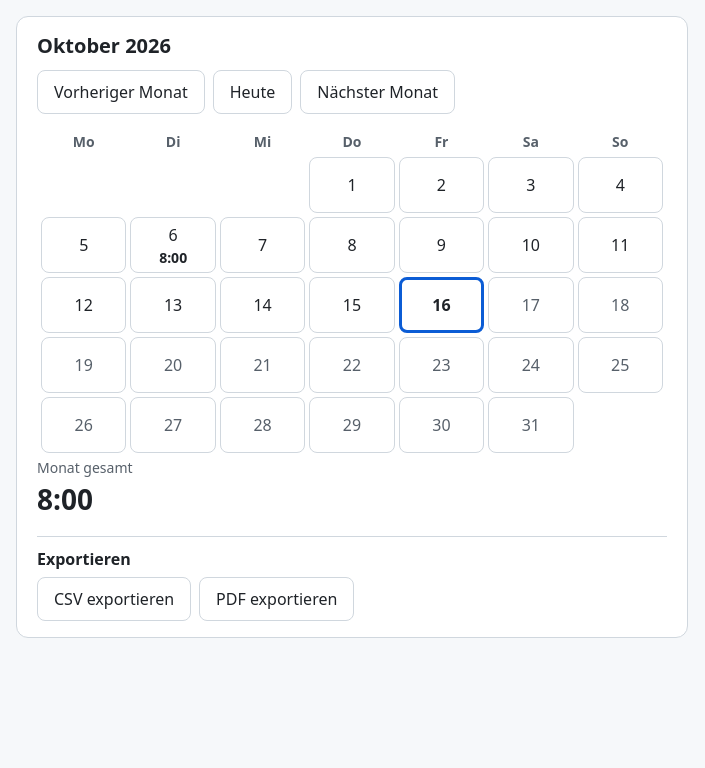
Test: CalendarView export › shows the failure toast when the CSV download throws
This screenshot has width=705, height=768.
Click the button "CSV exportieren" at (114, 599), box x1=37 y1=577 x2=191 y2=621
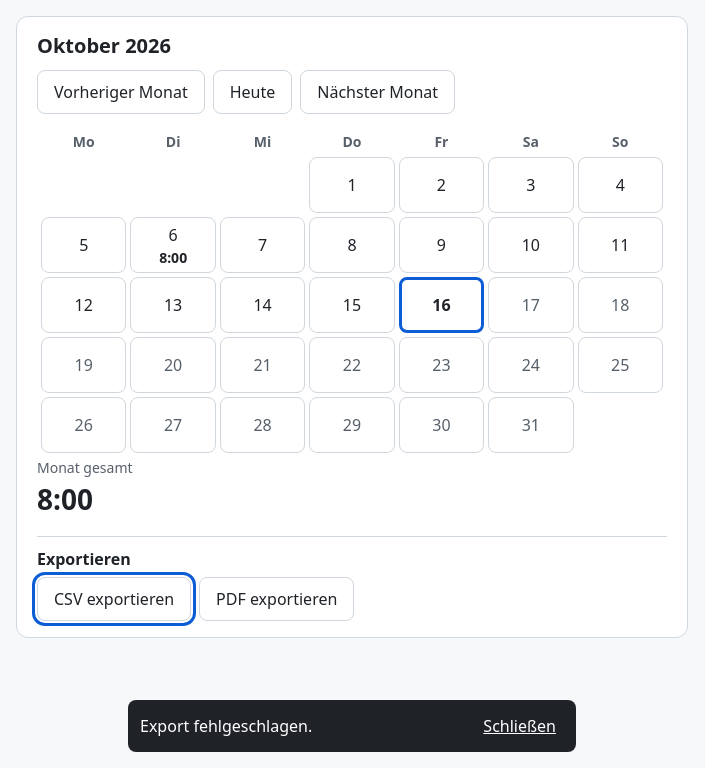
Expected: the text "Export fehlgeschlagen." is shown, x1=140 y1=714 x2=312 y2=738
